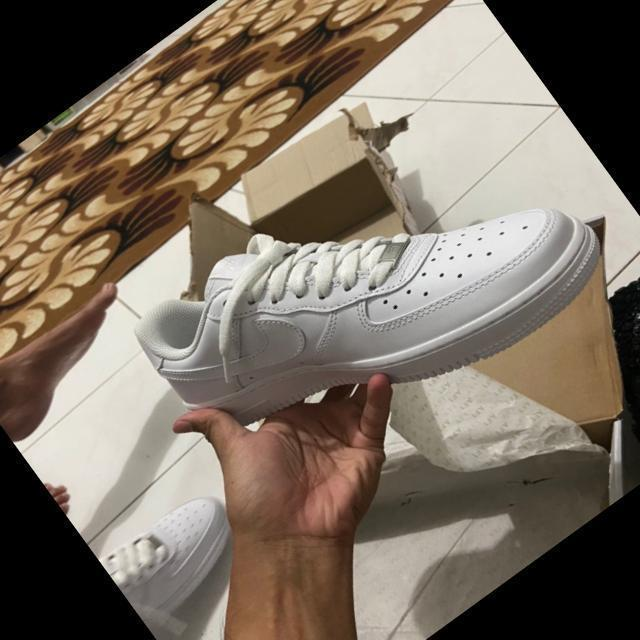nike original air force: (112, 67, 624, 532)
